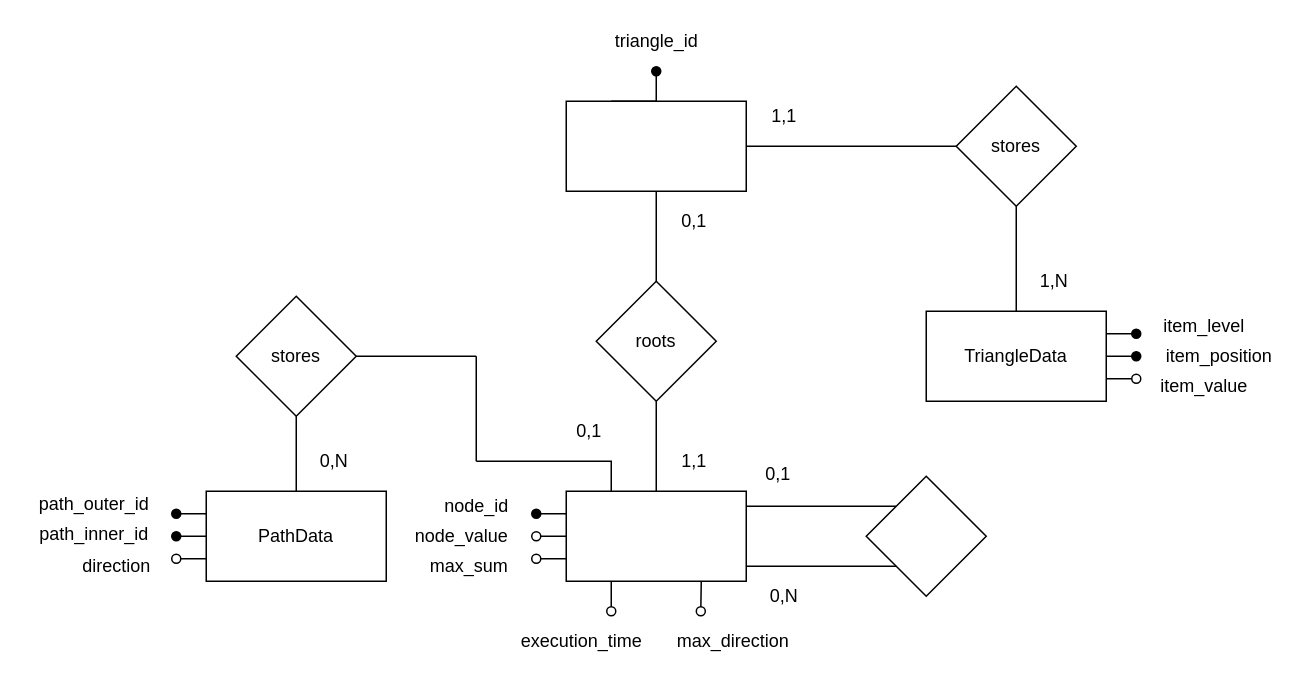
This 1311x681 diagram has some shape labels left out. Here are the shapes that lost their labels. From the top down, the centre of each, then its label:
(655,145): Triangle
(655,535): Node
(925,535): parents
